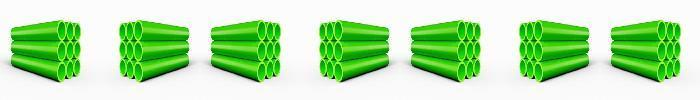pipe: (334, 21, 342, 39), (258, 21, 266, 39), (458, 21, 466, 39), (134, 21, 142, 39), (534, 21, 542, 39), (58, 21, 66, 39), (658, 21, 666, 39), (334, 43, 342, 59), (258, 43, 266, 59), (458, 43, 466, 59), (134, 43, 142, 59), (534, 43, 542, 59), (58, 43, 66, 59), (658, 43, 666, 59), (326, 22, 333, 40), (267, 22, 274, 40), (467, 22, 474, 40), (126, 22, 133, 40), (526, 22, 533, 40), (67, 22, 74, 40), (667, 22, 674, 40), (335, 64, 342, 80), (258, 64, 265, 80), (458, 64, 465, 80), (135, 64, 142, 80), (535, 64, 542, 80), (58, 64, 65, 80), (658, 64, 665, 80), (319, 24, 325, 40), (327, 42, 333, 58), (275, 24, 281, 40), (475, 24, 481, 40), (119, 24, 125, 40), (519, 24, 525, 40), (75, 24, 81, 40), (675, 24, 681, 40), (267, 42, 273, 58), (467, 42, 473, 58), (127, 42, 133, 58), (527, 42, 533, 58), (67, 42, 73, 58), (667, 42, 673, 58), (327, 62, 333, 77), (267, 62, 273, 77), (467, 62, 473, 77), (127, 62, 133, 77), (527, 62, 533, 77), (67, 62, 73, 77), (667, 62, 673, 77), (320, 42, 325, 57), (275, 42, 280, 57), (475, 42, 480, 57), (120, 42, 125, 57), (520, 42, 525, 57), (75, 42, 80, 57), (675, 42, 680, 57), (320, 61, 325, 75), (275, 61, 280, 75), (475, 61, 480, 75), (120, 61, 125, 75), (520, 61, 525, 75), (75, 61, 80, 75), (675, 61, 680, 75)
